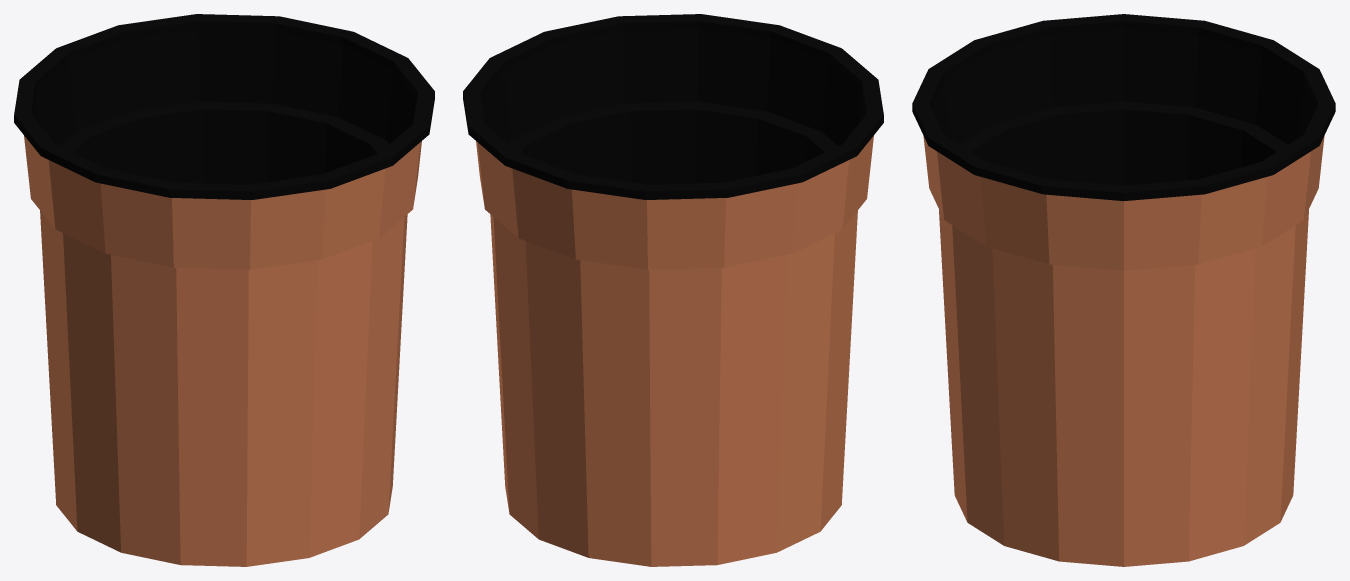
The model's file is pot_3_empty.fbx.
3 views of the same model, side by side, from view 1: azimuth 30°, elevation 25°; view 2: azimuth 150°, elevation 25°; view 3: azimuth 270°, elevation 25° (orthographic).
Parts seen in each view (by area): view 1: pot_empty; view 2: pot_empty; view 3: pot_empty.
Boxes of the visible parts, x1,y1,x2,y2 form: pot_empty: (14,14,434,566); pot_empty: (463,14,883,566); pot_empty: (912,14,1335,566).
Bounding box in the file's own units: 250 × 255 × 250.
